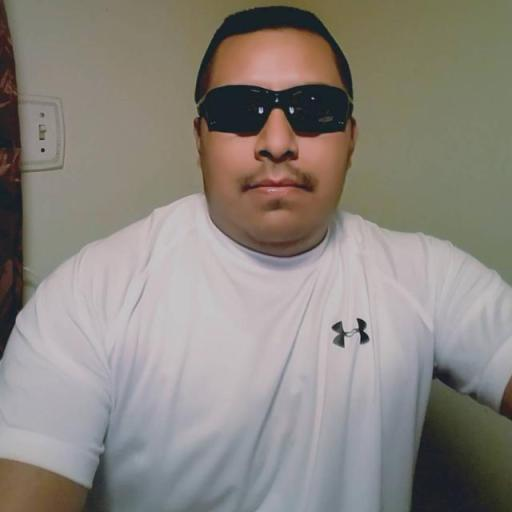Under Armour: (326, 308, 373, 354)
